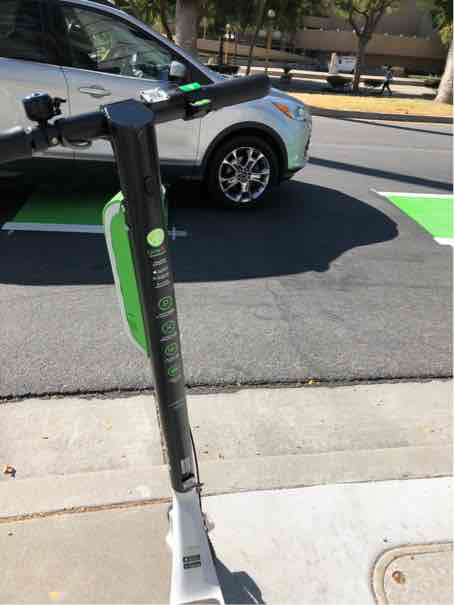scooter: (3, 53, 365, 605)
